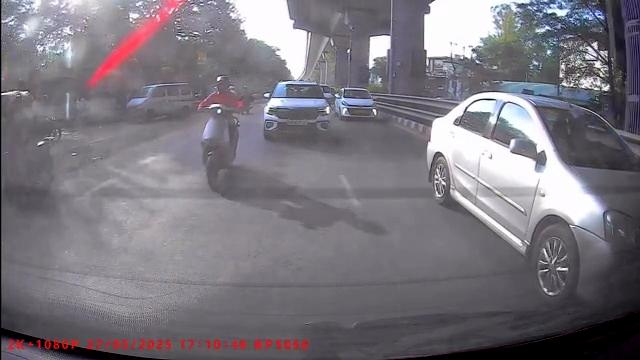motorcycle_with_helmet: (201, 73, 240, 189)
